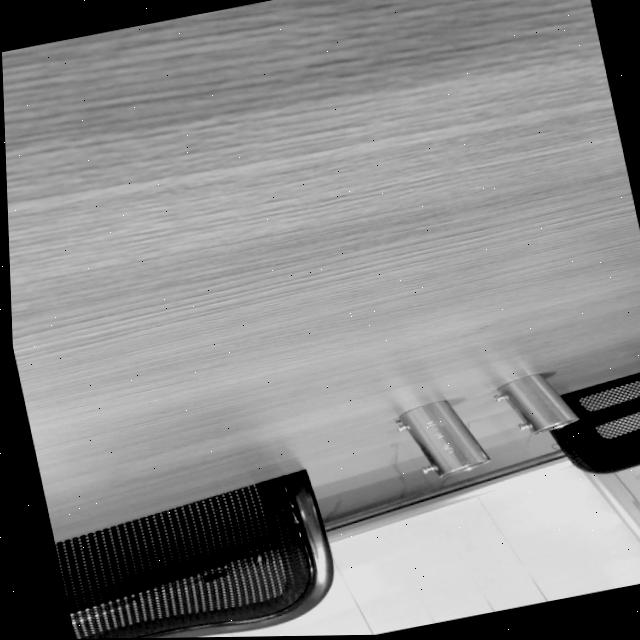Co_Lon: (393, 387, 491, 492)
Co_Nho: (492, 361, 579, 450)
